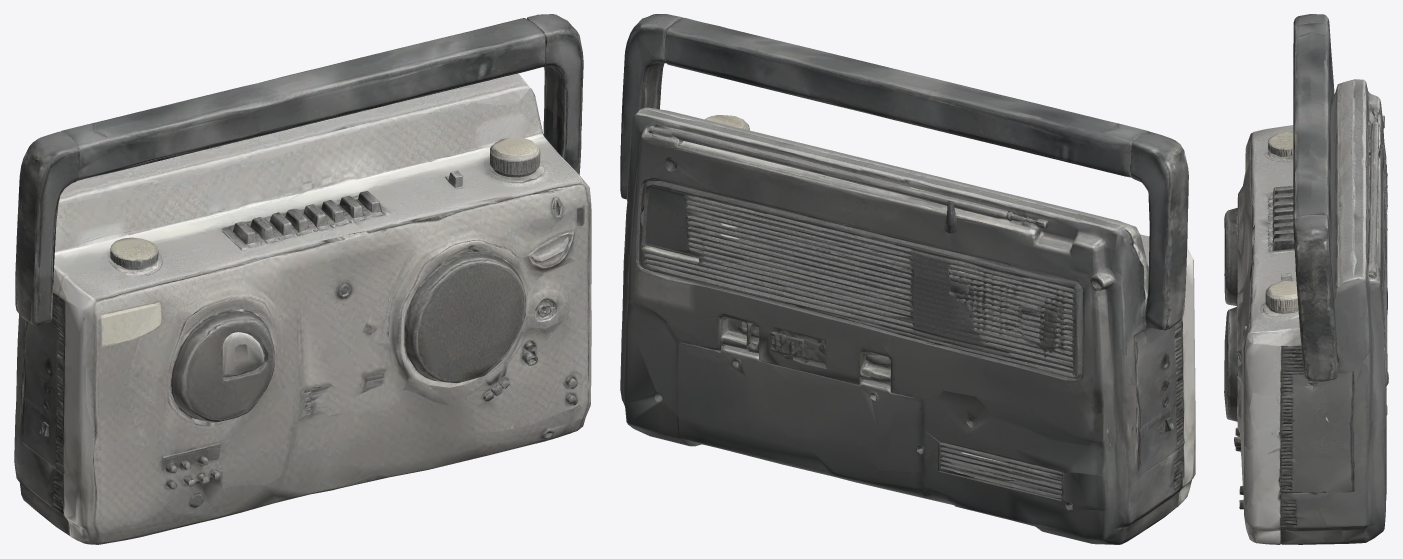
File: sony-03.glb
3 renders of one model, left to right at view 1: azimuth 30°, elevation 25°; view 2: azimuth 150°, elevation 25°; view 3: azimuth 270°, elevation 25°, orthographic. The views are drawn at different scales.
Visible parts, largest first — view 1: mesh_node; view 2: mesh_node; view 3: mesh_node.
Part boxes in pixels (box(x1,y1,x2,y2)): mesh_node: box(14, 14, 591, 544); mesh_node: box(620, 14, 1195, 544); mesh_node: box(1224, 14, 1388, 544).
Bounding box in the file's own units: 1.9 × 1.29 × 0.5834.
1 material, 1 textured.
